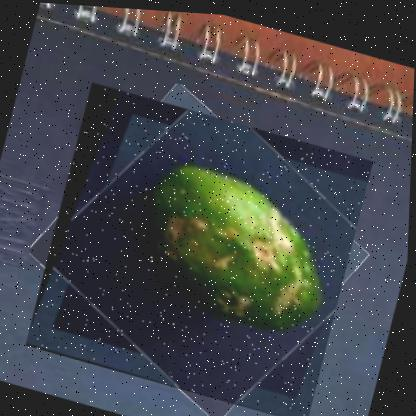orange_rotten: (24, 74, 377, 415)
